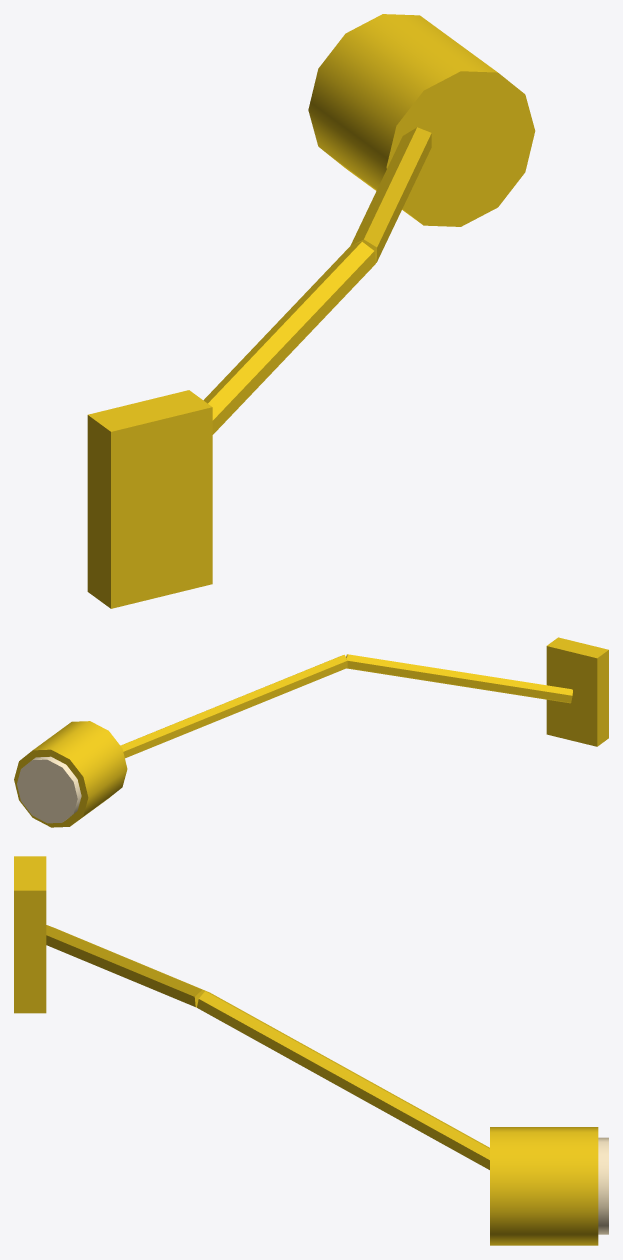
Rendered from industrial.depot.dock_light.glb.
The picture shows the model from 3 angles, top to bottom: view 1: azimuth 30°, elevation 25°; view 2: azimuth 150°, elevation 25°; view 3: azimuth 270°, elevation 25°; orthographic projection. The views are drawn at different scales.
Visible parts, largest first — view 1: main__plastic_yellow; view 2: main__plastic_yellow, main__glow; view 3: main__plastic_yellow, main__glow.
Part boxes in pixels (x1,y1,x2,y2): main__plastic_yellow: [87, 14, 535, 608]; main__plastic_yellow: [14, 637, 608, 827]; main__glow: [17, 756, 81, 823]; main__plastic_yellow: [14, 856, 598, 1245]; main__glow: [598, 1137, 608, 1234].
Bounding box in the file's own units: 1.13 × 0.305 × 1.1.
